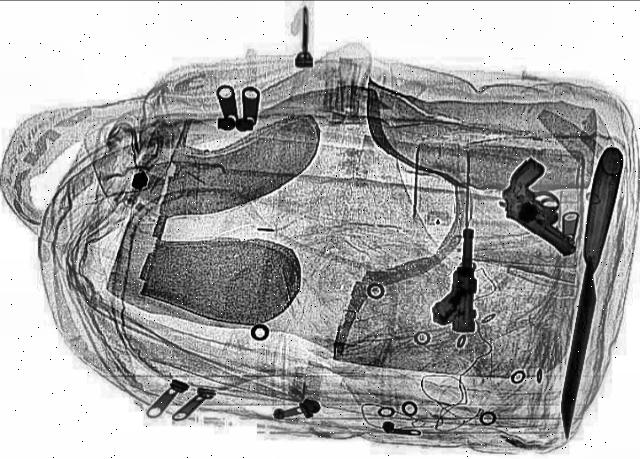Gun: (476, 155, 624, 253), (432, 227, 480, 331)
Knife: (552, 146, 624, 436)
